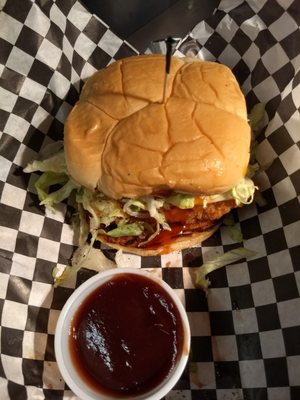soup: (23, 55, 257, 271)
sushi: (55, 268, 192, 400)
